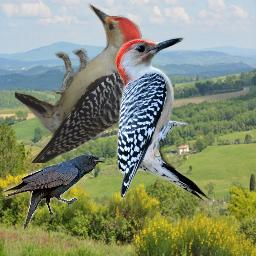Crow: (2, 154, 106, 230)
Woodpecker: (15, 3, 148, 163), (107, 30, 217, 214)
